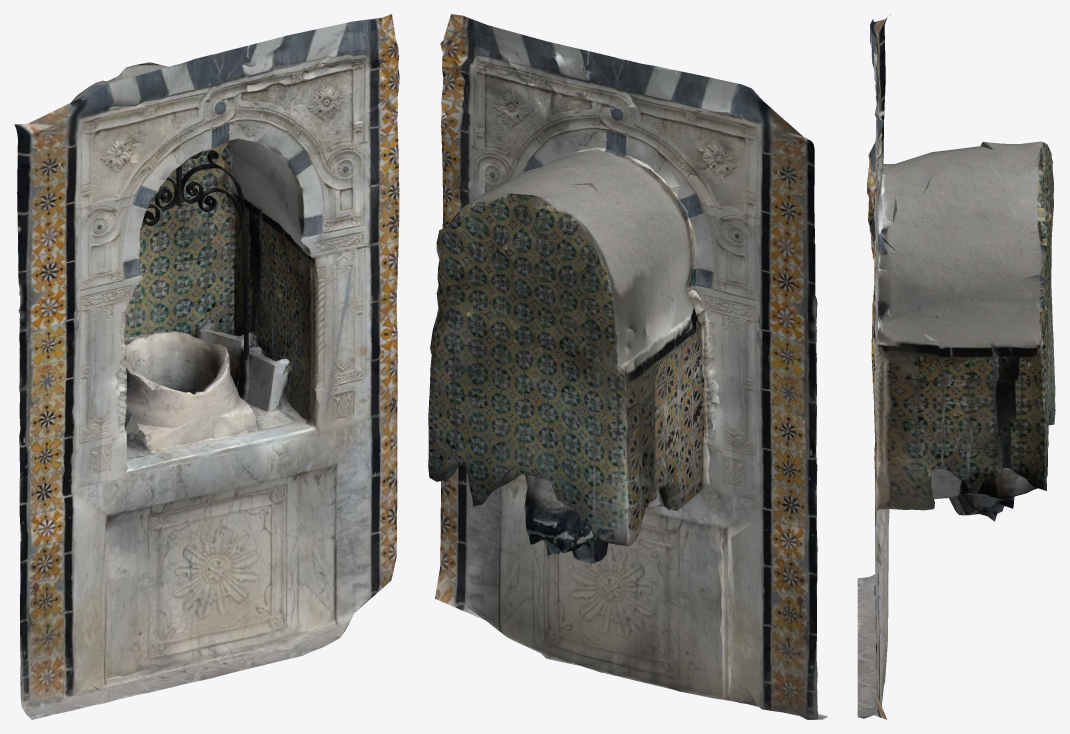
File: bir-traditional-well-medina-of-tunis.glb
3 renders of one model, left to right at view 1: azimuth 30°, elevation 25°; view 2: azimuth 150°, elevation 25°; view 3: azimuth 270°, elevation 25°, orthographic. The views are drawn at different scales.
Parts seen in each view (by area): view 1: Object_3; view 2: Object_3; view 3: Object_3.
Part boxes in pixels (<box>): Object_3: <box>14,14,399,719</box>; Object_3: <box>428,14,828,719</box>; Object_3: <box>857,14,1055,719</box>.
Bounding box in the file's own units: 1.29 × 2.01 × 0.6064.
Materials: 1 (1 with a texture image).
